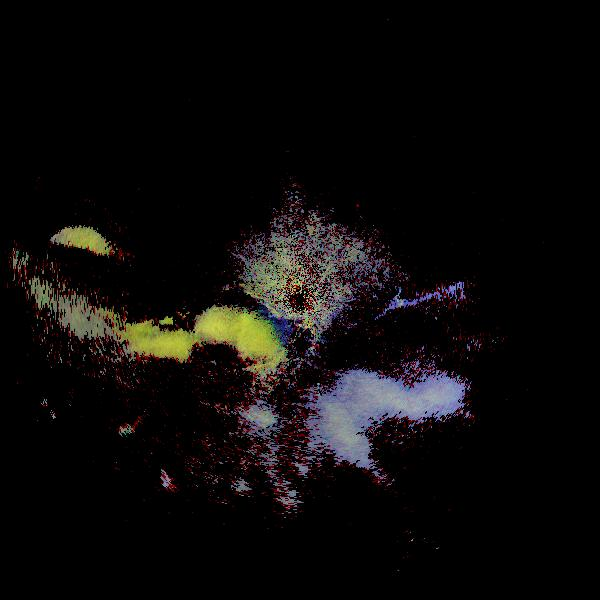roost: (109, 270, 313, 474), (58, 286, 232, 460), (4, 201, 151, 348)
